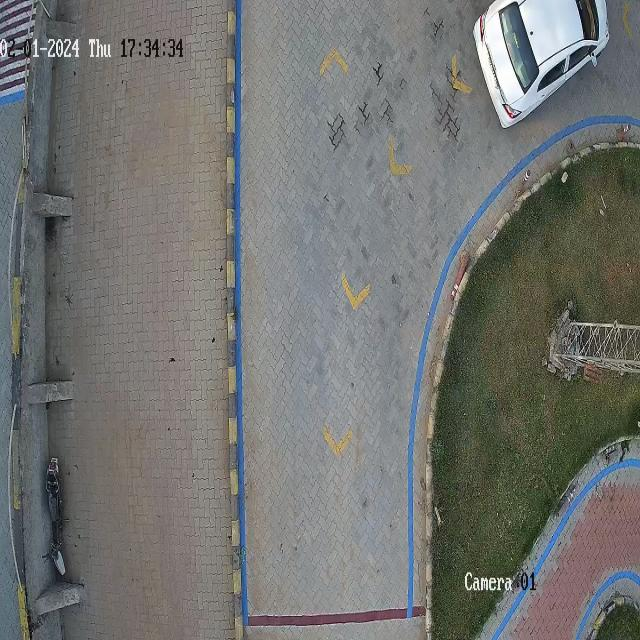car: (474, 0, 610, 128)
